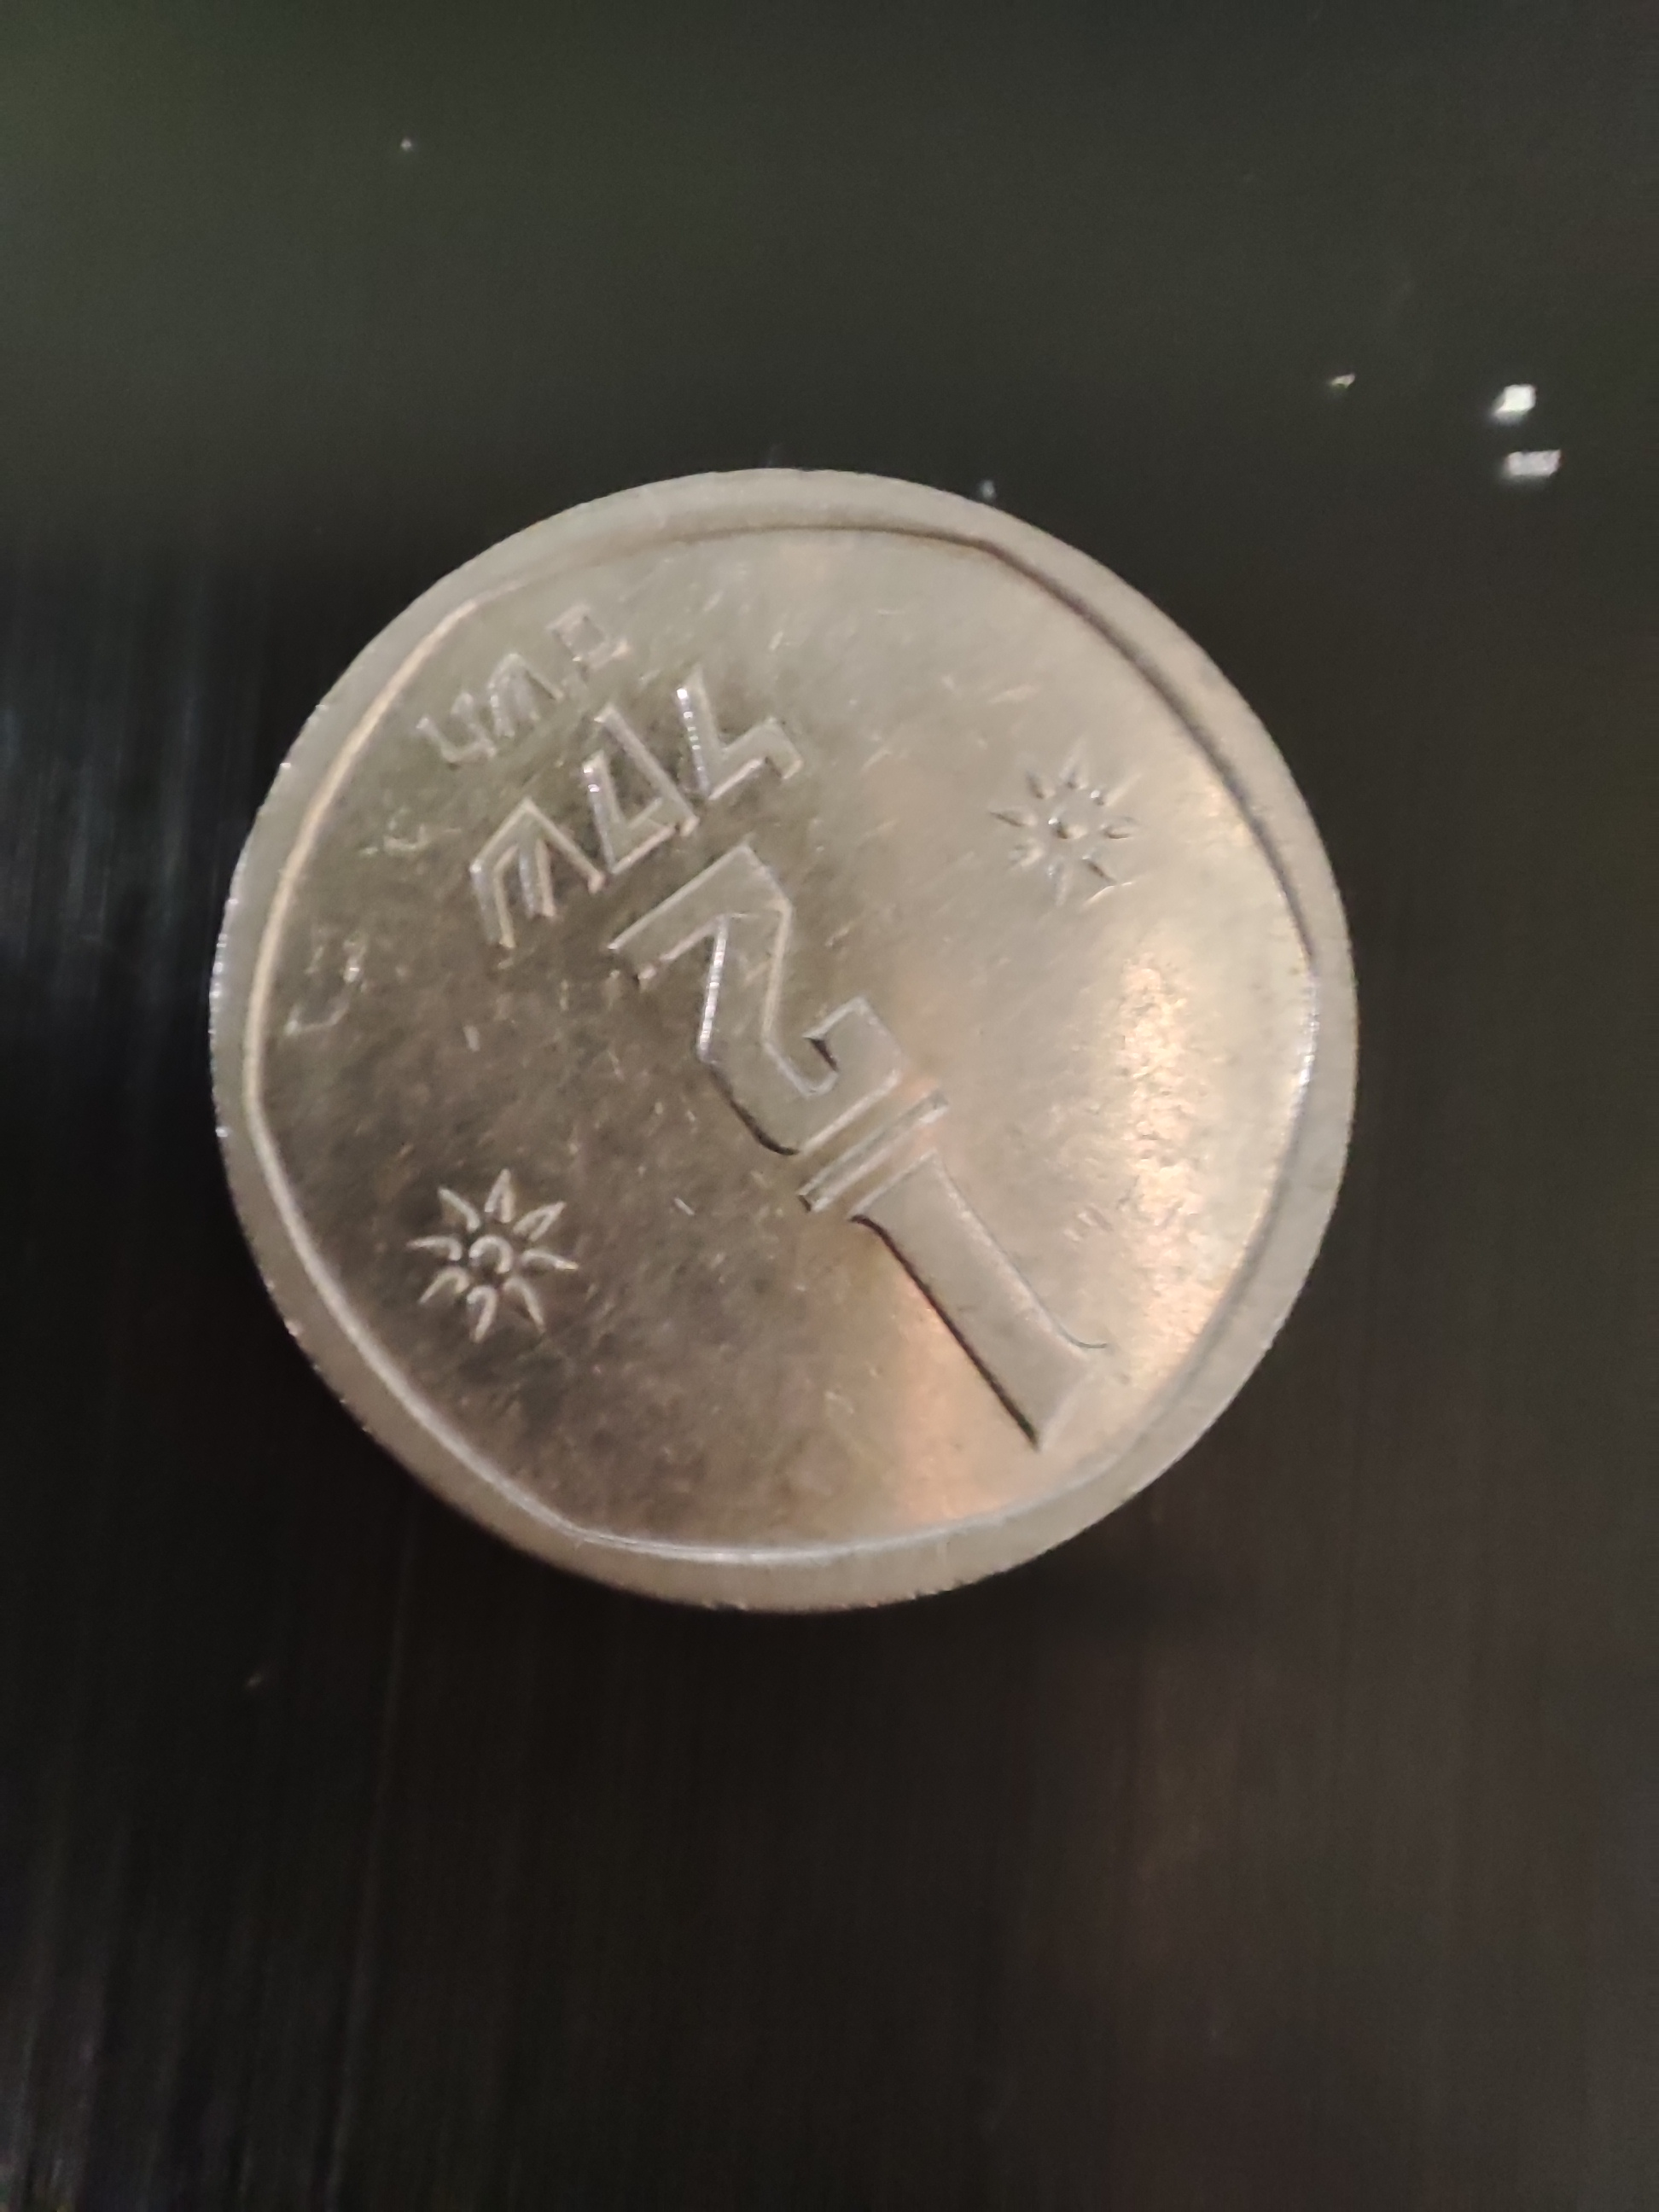1/2 old sheqel: (206, 469, 1363, 1623)
